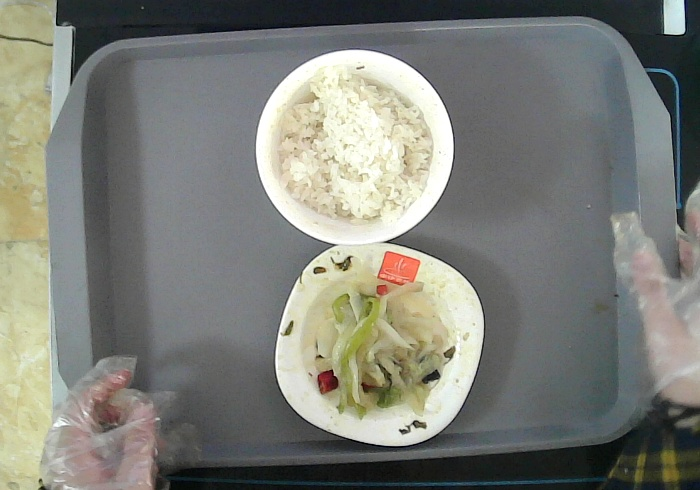SHKJ-Bai_Se_Si_Fang_Cai_Die: (276, 243, 486, 446)
SHKJ-Fan_Wan: (255, 50, 454, 245)
